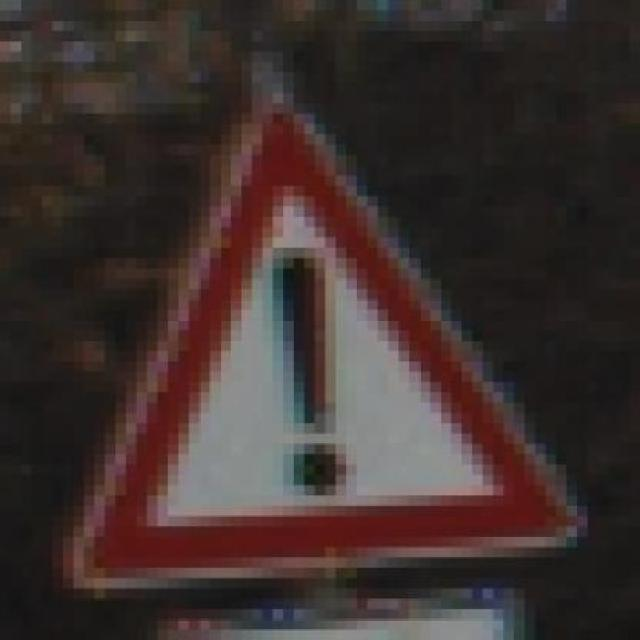Attention Please-: (39, 94, 596, 580)
